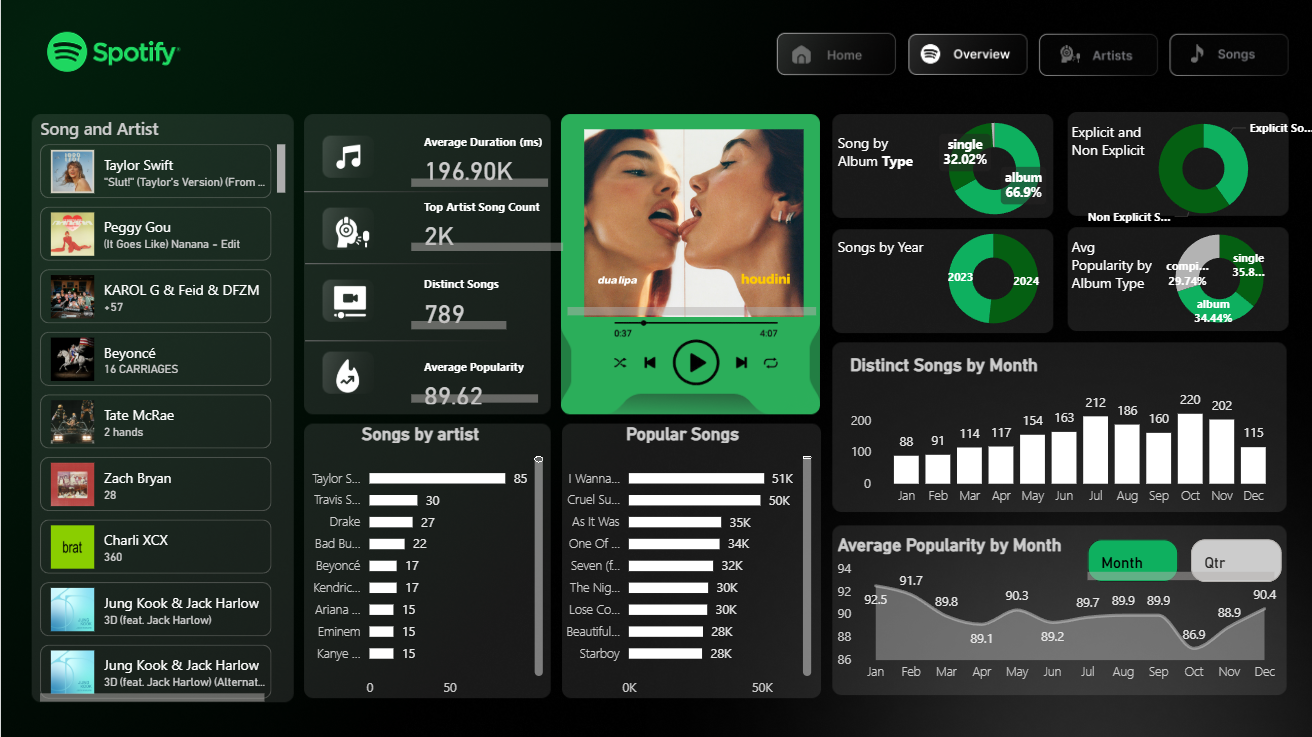

The dashboard page shown, as its layout file describes it:
{"tool":"powerbi","page":{"name":"Page 1","canvas":[1280,720],"ordinal":0},"visuals":[{"type":"image","box":[0,0,1279.7,719.3],"z":0},{"type":"clusteredBarChart","title":"Songs by artist","fields":{"Category":["Top-50-world.artist"],"Y":["_Measures.Distinct Songs"]},"box":[289.9,411.7,245.4,271.7],"z":1000},{"type":"clusteredBarChart","title":"Popular Songs","fields":{"Category":["Top-50-world.song"],"Y":["Sum(Top-50-world.popularity)"]},"box":[535.3,411.7,256.9,271.7],"z":2000},{"type":"areaChart","fields":{"Category":["Top-50-world.Month"],"Y":["_Measures.Average Popularity"]},"box":[807.7,518.5,433.1,149.9],"z":3000},{"type":"donutChart","fields":{"Y":["_Measures.Distinct Songs"],"Category":["Top-50-world.album_type"]},"box":[791.2,107.9,344.7,121.4],"z":4000},{"type":"textbox","box":[807.7,128.9,92.9,50.9],"z":5000},{"type":"donutChart","fields":{"Y":["_Measures.Explicit Songs Count","_Measures.Non Explicit Songs Count"]},"box":[1047.5,107.9,232.3,121.4],"z":6000},{"type":"donutChart","fields":{"Y":["_Measures.Average Popularity"],"Category":["Top-50-world.album_type"]},"box":[1078.9,212.8,200.8,121.4],"z":7000},{"type":"donutChart","fields":{"Y":["_Measures.Distinct Songs"],"Category":["Top-50-world.Year"]},"box":[846.7,212.8,232.3,121.4],"z":8000},{"type":"textbox","box":[807.7,229.3,92.9,50.9],"z":9000},{"type":"textbox","box":[1032.5,118.4,92.9,50.9],"z":10000},{"type":"textbox","box":[1032.5,229.3,92.9,86.9],"z":11000},{"type":"clusteredColumnChart","fields":{"Category":["Top-50-world.Month"],"Y":["_Measures.Distinct Songs"]},"box":[819.7,346.2,421.1,154.3],"z":12000},{"type":"advancedSlicerVisual","fields":{"Values":["Slice.Slice"]},"box":[1047.5,518.5,197.8,46.5],"z":13000},{"type":"cardVisual","fields":{"Data":["_Measures.Distinct Songs"]},"box":[398.6,254.7,109.4,74.9],"z":14000},{"type":"cardVisual","fields":{"Data":["_Measures.Average Popularity"]},"box":[398.6,334.2,139.4,65.9],"z":15000},{"type":"cardVisual","fields":{"Data":["_Measures.Top Artist Song Count"]},"box":[398.6,181.3,163.3,73.4],"z":16000},{"type":"cardVisual","fields":{"Data":["_Measures.Average Duration (ms)"]},"box":[398.6,118.4,149.9,74.9],"z":17000},{"type":"image","box":[326.7,346.2,42,42],"z":18000},{"type":"image","box":[326.7,136.4,33,40.5],"z":19000},{"type":"image","box":[323.7,208.3,48,42],"z":20000},{"type":"image","box":[319.2,272.7,52.4,46.5],"z":21000},{"type":"advancedSlicerVisual","title":"Song and Artist","fields":{"Values":["Top-50-world.song"]},"box":[43.5,118.4,245.8,564.9],"z":22000},{"type":"cardVisual","fields":{"Data":["Min(Top-50-world.album_cover_url)"]},"box":[548.5,113.9,256.2,202.3],"z":23000},{"type":"image","box":[581.5,303,190.6,84.3],"z":24000}]}

Visuals, with their boxes in screenshot pixels (x1, y1, x2, y2), scaled from the page's 1280x720 canvas onto the 1312x737 screenshot:
image: <region>0, 0, 1311, 736</region>
"Songs by artist" clusteredBarChart: <region>297, 421, 549, 700</region>
"Popular Songs" clusteredBarChart: <region>549, 421, 812, 700</region>
areaChart - Top-50-world.Month x _Measures.Average Popularity: <region>828, 531, 1272, 684</region>
donutChart - _Measures.Distinct Songs x Top-50-world.album_type: <region>811, 110, 1164, 235</region>
textbox: <region>828, 132, 923, 184</region>
donutChart - _Measures.Explicit Songs Count x _Measures.Non Explicit Songs Count: <region>1074, 110, 1311, 235</region>
donutChart - _Measures.Average Popularity x Top-50-world.album_type: <region>1106, 218, 1311, 342</region>
donutChart - _Measures.Distinct Songs x Top-50-world.Year: <region>868, 218, 1106, 342</region>
textbox: <region>828, 235, 923, 287</region>
textbox: <region>1058, 121, 1154, 173</region>
textbox: <region>1058, 235, 1154, 324</region>
clusteredColumnChart - Top-50-world.Month x _Measures.Distinct Songs: <region>840, 354, 1272, 512</region>
advancedSlicerVisual - Slice.Slice: <region>1074, 531, 1276, 578</region>
cardVisual - _Measures.Distinct Songs: <region>409, 261, 521, 337</region>
cardVisual - _Measures.Average Popularity: <region>409, 342, 551, 410</region>
cardVisual - _Measures.Top Artist Song Count: <region>409, 186, 576, 261</region>
cardVisual - _Measures.Average Duration (ms): <region>409, 121, 562, 198</region>
image: <region>335, 354, 378, 397</region>
image: <region>335, 140, 369, 181</region>
image: <region>332, 213, 381, 256</region>
image: <region>327, 279, 381, 327</region>
"Song and Artist" advancedSlicerVisual: <region>45, 121, 297, 699</region>
cardVisual - Min(Top-50-world.album_cover_url): <region>562, 117, 825, 324</region>
image: <region>596, 310, 791, 396</region>
